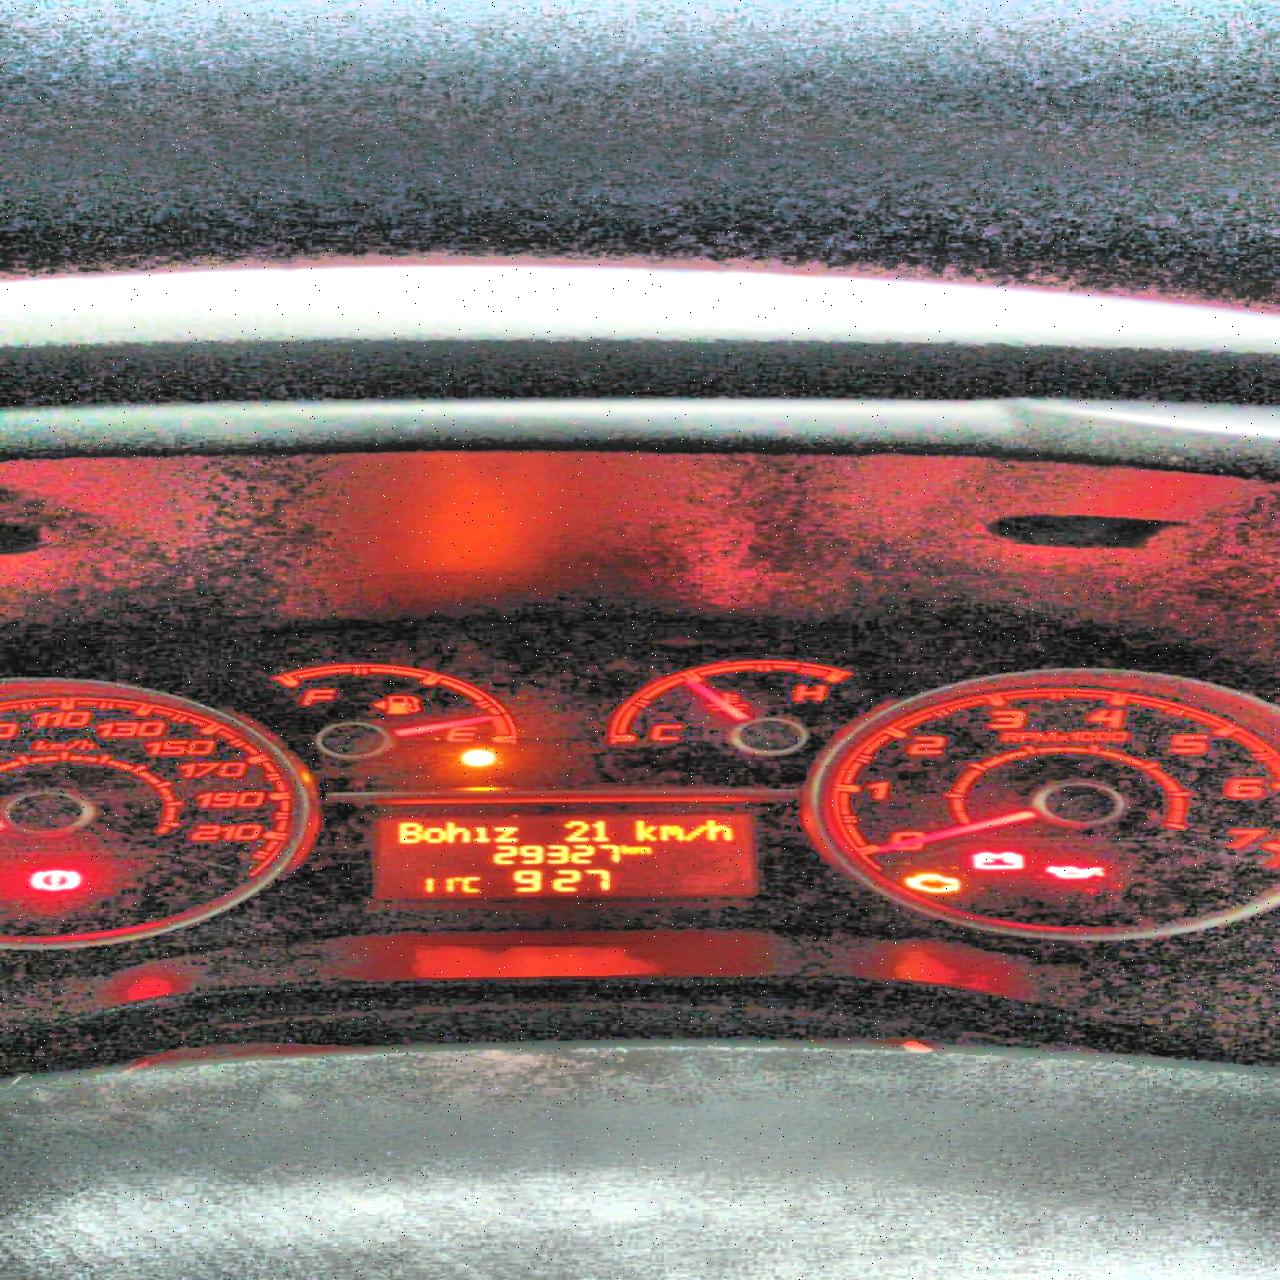1: (591, 819, 612, 842), (418, 876, 436, 893), (441, 876, 454, 894)
2: (550, 867, 580, 892), (561, 819, 588, 842), (570, 843, 595, 864), (491, 845, 517, 863)
3: (545, 843, 567, 864)
7: (584, 867, 613, 892), (599, 843, 618, 864)
9: (511, 867, 542, 893), (517, 843, 545, 865)
X: (702, 818, 734, 840), (395, 821, 421, 845), (444, 821, 470, 844), (633, 818, 658, 842), (492, 825, 520, 843), (658, 823, 683, 842), (470, 824, 491, 844), (459, 876, 483, 893), (422, 825, 443, 844), (683, 824, 704, 840), (632, 845, 651, 855), (620, 843, 632, 855)
odometer: (370, 815, 760, 900)
